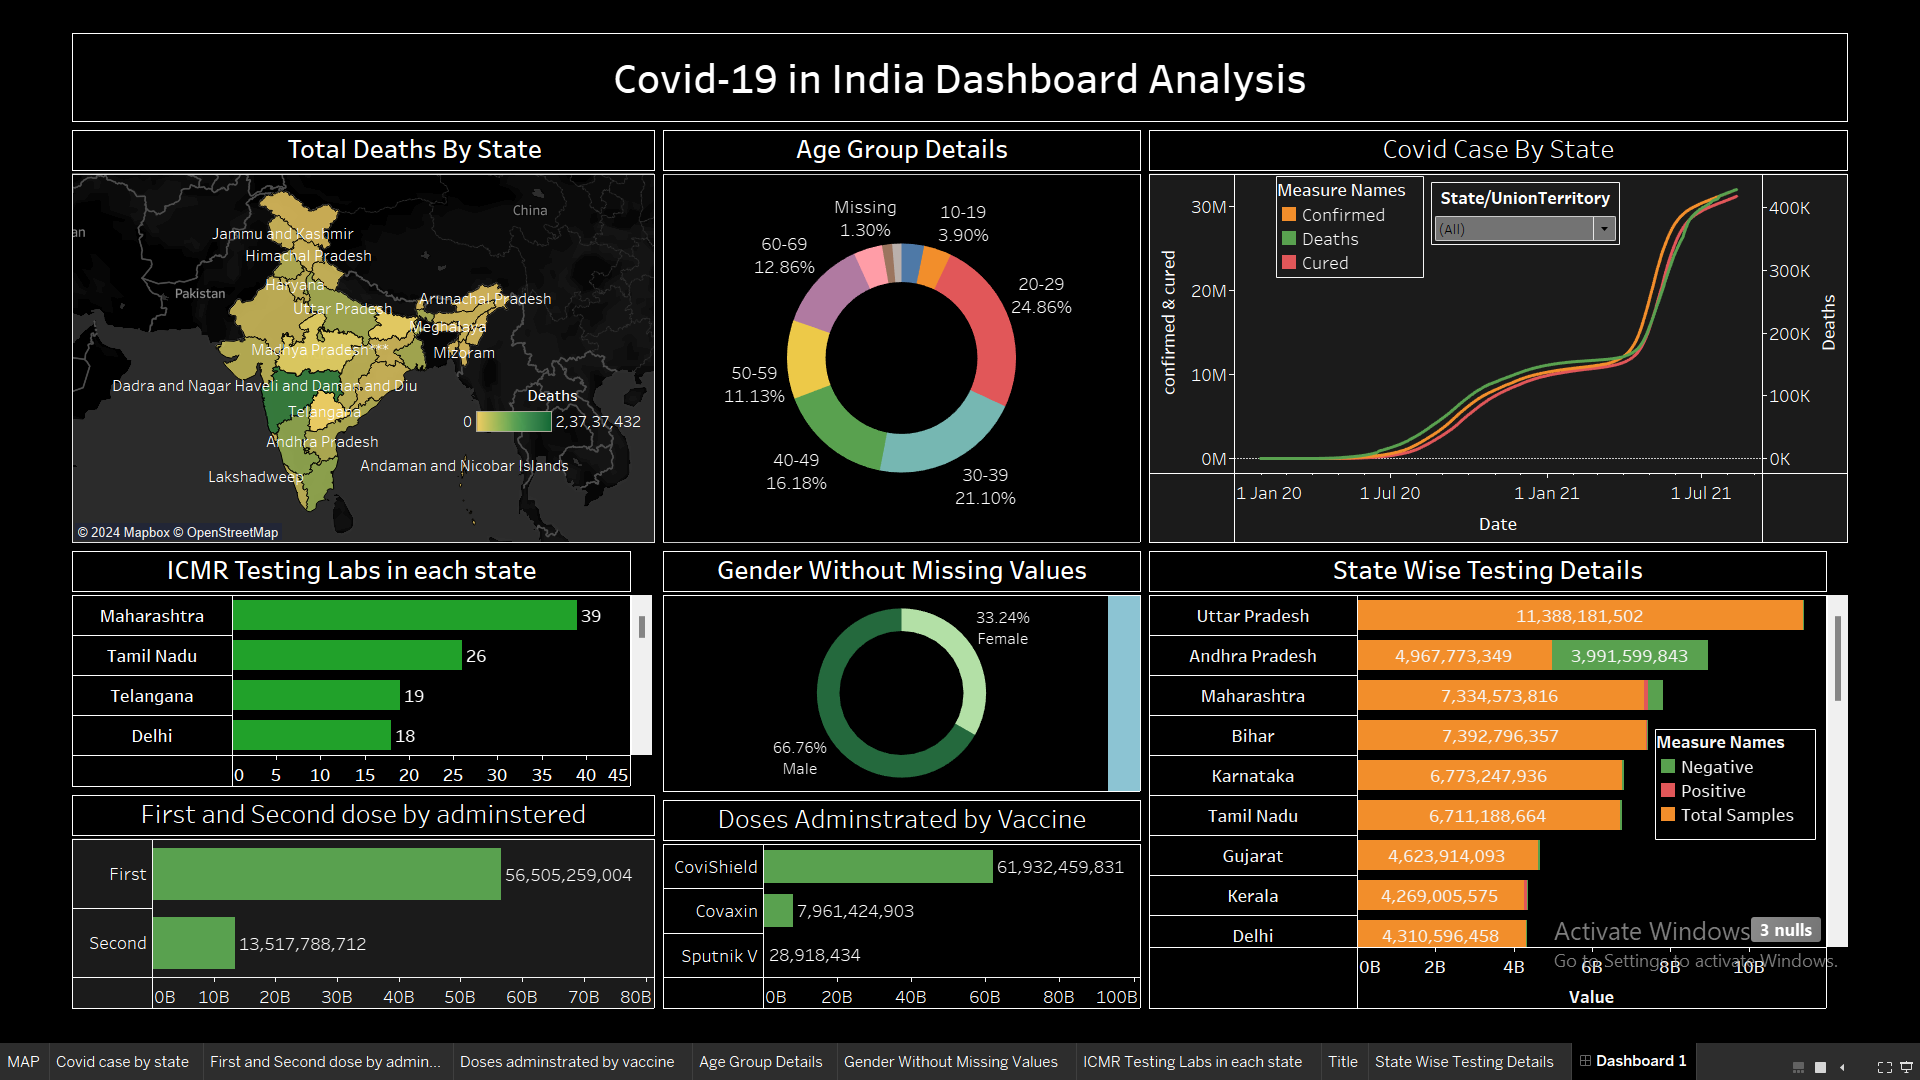

This screenshot's page, from the dashboard's own definition file:
{"tool":"tableau","page":{"name":"Dashboard 1","canvas":[1600,1100],"ordinal":0},"visuals":[{"type":"worksheet","title":"Title","mark":"Automatic","box":[8,8,1584,107]},{"type":"worksheet","title":"MAP","mark":"Multipolygon","box":[8,115,524.8,464]},{"type":"worksheet","title":"Age Group Details","mark":"Pie","rows":["Calculation_615585801761091591","Calculation_615585801761177610"],"box":[532.8,115,431.7,464]},{"type":"worksheet","title":"Covid case by state","mark":"Automatic","rows":["Deaths"],"cols":["Date"],"box":[964.5,115,627.5,464]},{"type":"legend","title":"Covid case by state","param":"[federated.1l53nx40v1kt501cu4xty0r2f8ur].[:Measure Names]","box":[1080.5,171,131.8,99]},{"type":"filter","title":"Covid case by state","param":"[federated.1l53nx40v1kt501cu4xty0r2f8ur].[none:State/UnionTerritory:nk]","box":[1230.1,200,167.5,65]},{"type":"legend","title":"MAP","param":"[federated.1l53nx40v1kt501cu4xty0r2f8ur].[sum:Deaths:qk]","box":[347.3,507,172.2,62]},{"type":"worksheet","title":"ICMR Testing Labs in each state","mark":"Automatic","rows":["state"],"cols":["lab"],"box":[8,579,524.8,268.8]},{"type":"worksheet","title":"Gender Without Missing Values","mark":"Pie","rows":["Calculation_1004865694732517377","Calculation_1004865694732537859"],"box":[532.8,579,431.7,274.5]},{"type":"worksheet","title":"Statae Wise Testing Details","mark":"Automatic","rows":["State"],"box":[964.5,579,627.5,513]},{"type":"legend","title":"Statae Wise Testing Details","param":"[federated.1hqyepk1pwbczr123u63i1vzcmeb].[:Measure Names]","box":[1414.6,774,150.6,119]},{"type":"worksheet","title":"First and Second dose by adminstered","mark":"Automatic","box":[8,847.7,524.8,244.3]},{"type":"worksheet","title":"Doses adminstrated by vaccine","mark":"Automatic","box":[532.8,853.5,431.7,238.5]}]}

Visuals, with their boxes on the page's 1600x1100 design canvas (x1, y1, x2, y2). These are canvas units, not pixel positions in the 1920x1080 screenshot, which may show the page scaled, cropped or inside an application window:
"Title" worksheet: 8,8,1592,115
"MAP" worksheet (Multipolygon marks): 8,115,533,579
"Age Group Details" worksheet (Pie marks): 533,115,964,579
"Covid case by state" worksheet: 964,115,1592,579
"Covid case by state" legend: 1080,171,1212,270
"Covid case by state" filter: 1230,200,1398,265
"MAP" legend: 347,507,520,569
"ICMR Testing Labs in each state" worksheet: 8,579,533,848
"Gender Without Missing Values" worksheet (Pie marks): 533,579,964,854
"Statae Wise Testing Details" worksheet: 964,579,1592,1092
"Statae Wise Testing Details" legend: 1415,774,1565,893
"First and Second dose by adminstered" worksheet: 8,848,533,1092
"Doses adminstrated by vaccine" worksheet: 533,854,964,1092
